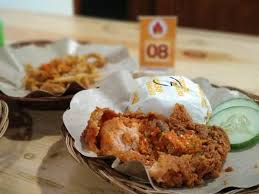ayam_geprek: (110, 85, 229, 189)
